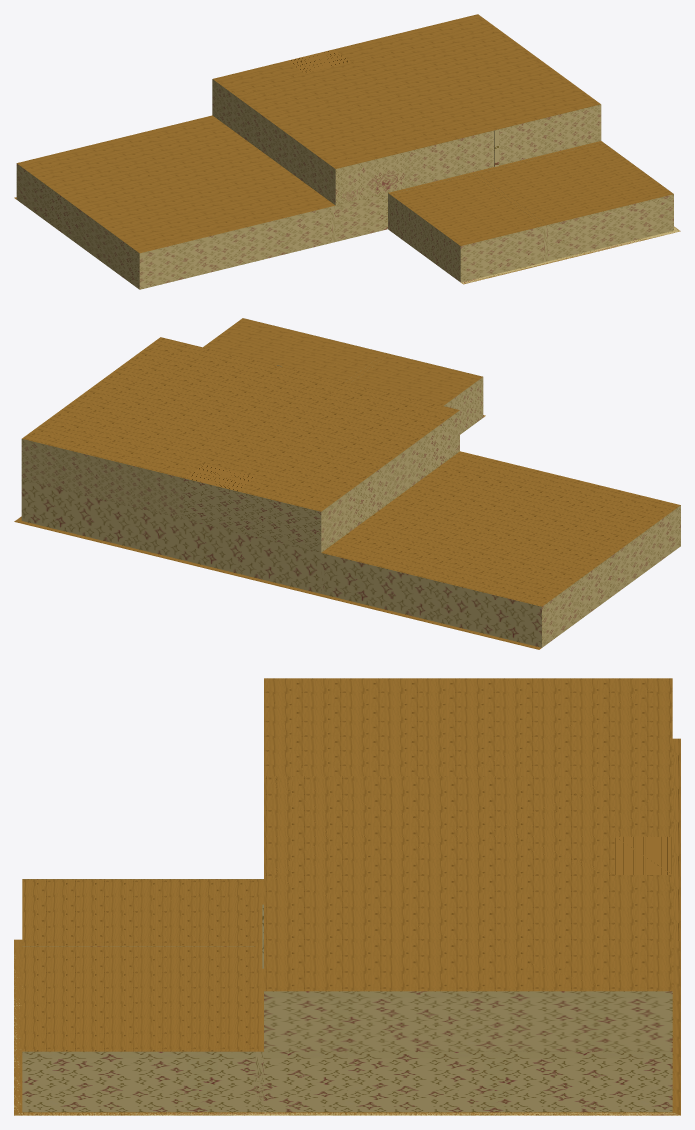
Rendered from ElderlyHomePastBloody.fbx.
3 views of the same model, one above another, from view 1: azimuth 30°, elevation 25°; view 2: azimuth 150°, elevation 25°; view 3: azimuth 270°, elevation 25° (orthographic). The views are drawn at different scales.
Parts seen in each view (by area): view 1: Cube.001; view 2: Cube.001; view 3: Cube.001.
Part boxes in pixels (x1,y1,x2,y2): Cube.001: (14,14,680,289); Cube.001: (14,318,680,649); Cube.001: (14,678,680,1115).
Bounding box in the file's own units: 5350 × 800 × 4000.
